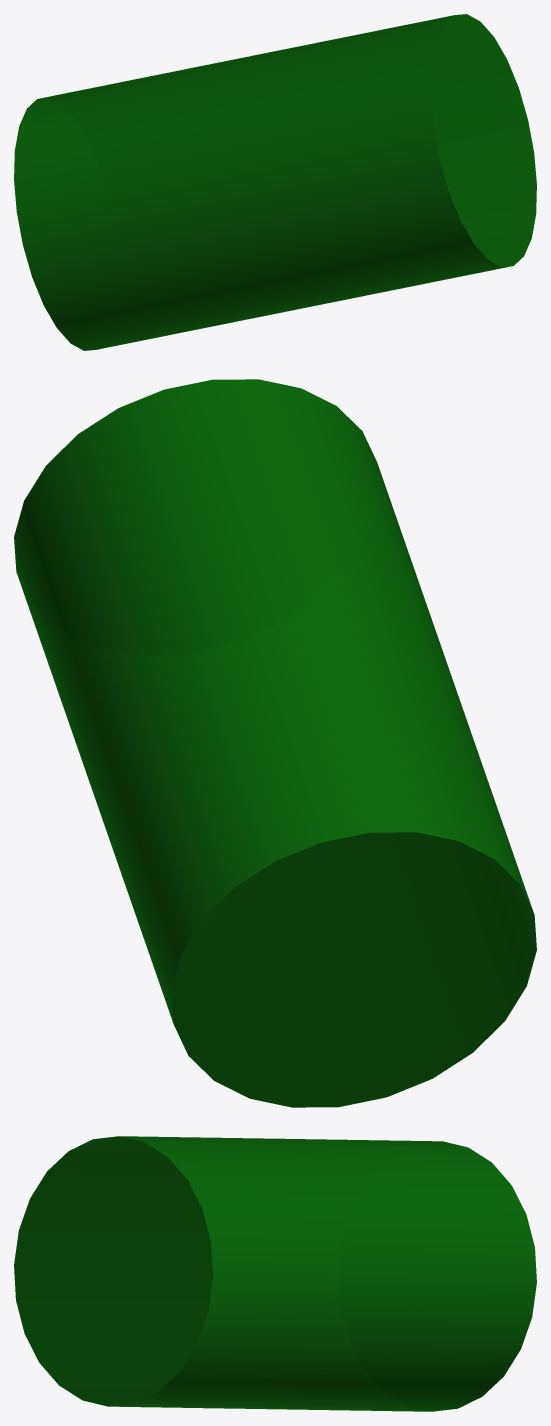
The model's file is Event_105588474_jet_4.fbx.
3 renders of one model, top to bottom at view 1: azimuth 30°, elevation 25°; view 2: azimuth 150°, elevation 25°; view 3: azimuth 270°, elevation 25°, orthographic. The views are drawn at different scales.
Visible parts, largest first — view 1: Model; view 2: Model; view 3: Model.
Boxes of the visible parts, x1,y1,x2,y2 form: Model: (14, 14, 536, 350); Model: (14, 379, 536, 1107); Model: (14, 1136, 536, 1411).
Size of the model in its own units: 0.0768 by 0.0606 by 0.0773.
